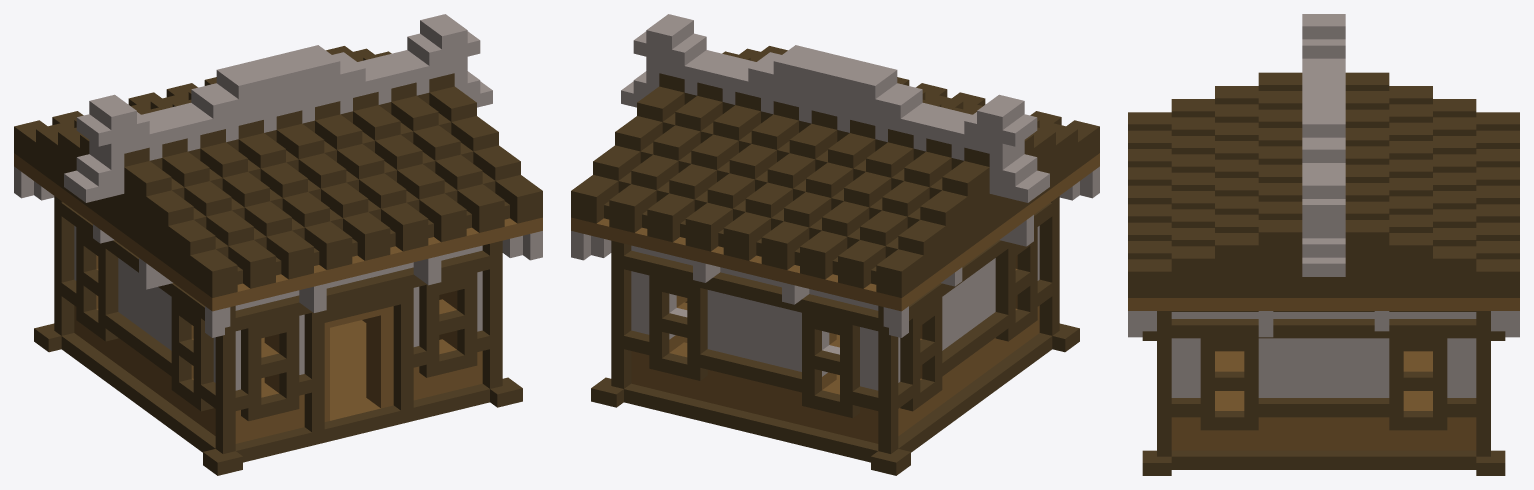
File: casa.obj
3 views of the same model, side by side, from view 1: azimuth 30°, elevation 25°; view 2: azimuth 150°, elevation 25°; view 3: azimuth 270°, elevation 25° (orthographic).
Bounding box in the file's own units: 3.2 × 2.3 × 2.7.
